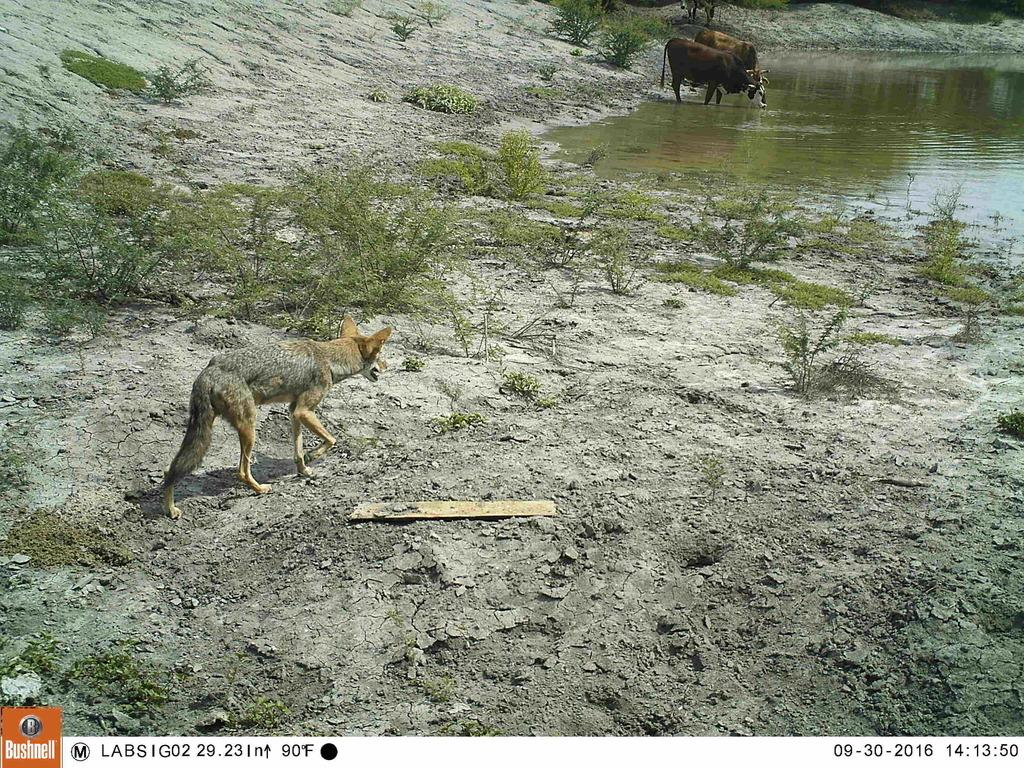Coyote: (150, 315, 393, 521)
